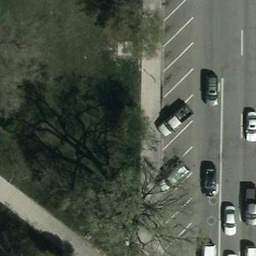car: (158, 105, 192, 139), (156, 163, 190, 197), (202, 73, 222, 108), (200, 161, 218, 196), (243, 110, 256, 143), (241, 108, 254, 141), (224, 204, 235, 236)
